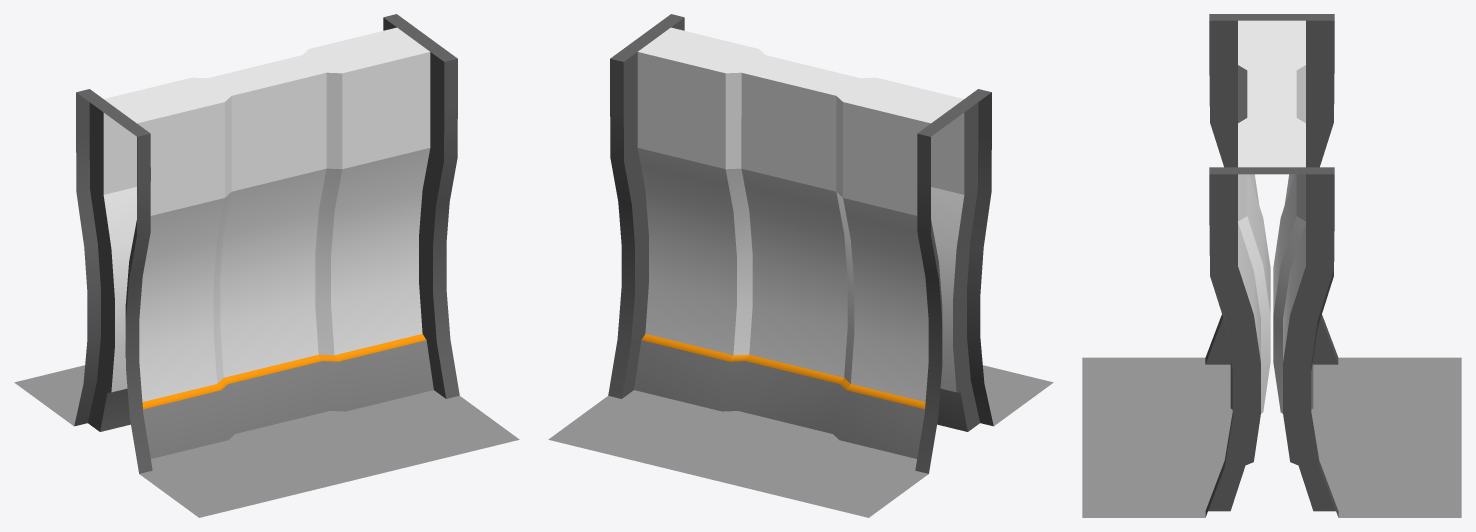
File: SM_InteriorWall_02.fbx
3 renders of one model, left to right at view 1: azimuth 30°, elevation 25°; view 2: azimuth 150°, elevation 25°; view 3: azimuth 270°, elevation 25°, orthographic. The views are drawn at different scales.
Parts seen in each view (by area): view 1: SM_InteriorWall_02; view 2: SM_InteriorWall_02; view 3: SM_InteriorWall_02.
Part boxes in pixels (x1,y1,x2,y2): SM_InteriorWall_02: (14, 14, 519, 517); SM_InteriorWall_02: (548, 14, 1053, 517); SM_InteriorWall_02: (1082, 14, 1461, 517).
Size of the model in its own units: 200 by 200 by 200.
Materials: 1 (1 with a texture image).
